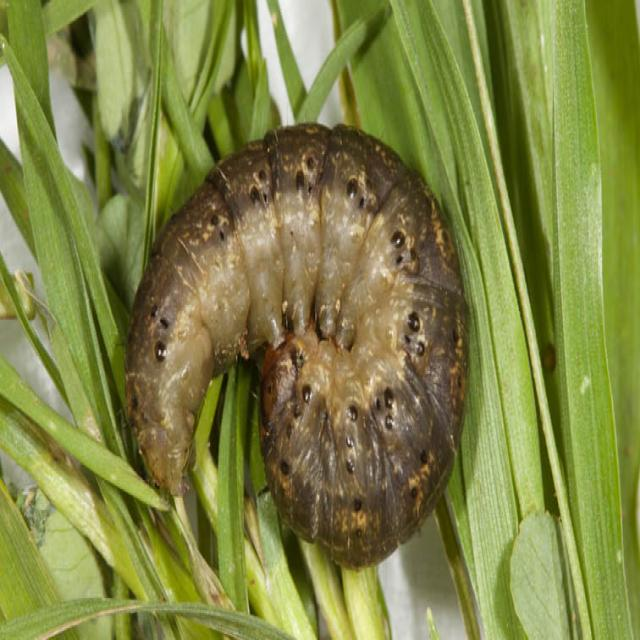Cutworm: (118, 119, 470, 555)
